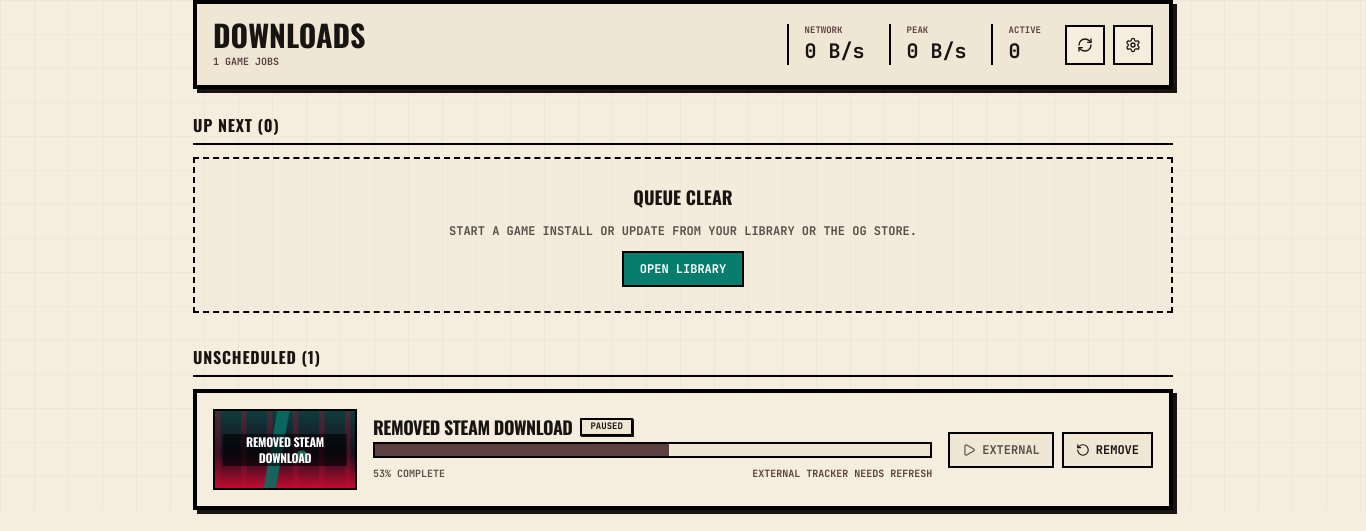
DownloadsPage › removes interrupted external downloads from the unscheduled queue
Expected: the heading "Unscheduled (1)" is shown, [193,345,321,369]
Step 1. Click the button "Remove" → {"x": 1107, "y": 450}, box [1062,432,1153,468]
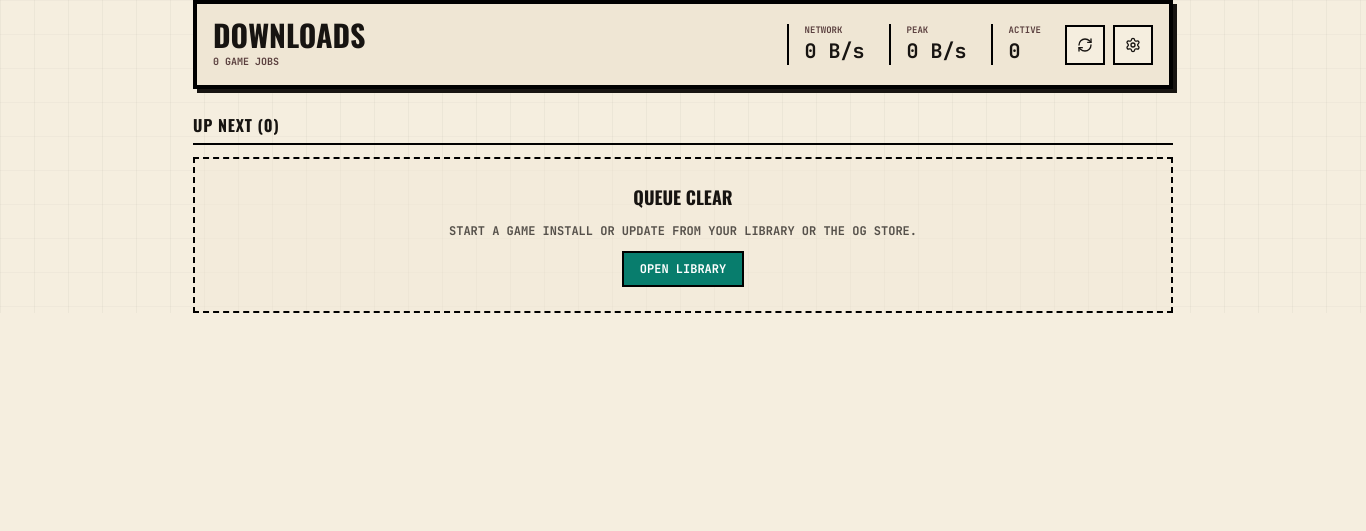
Expected: the text "Removed Steam Download" is gone
Expected: the heading "Unscheduled" is gone
